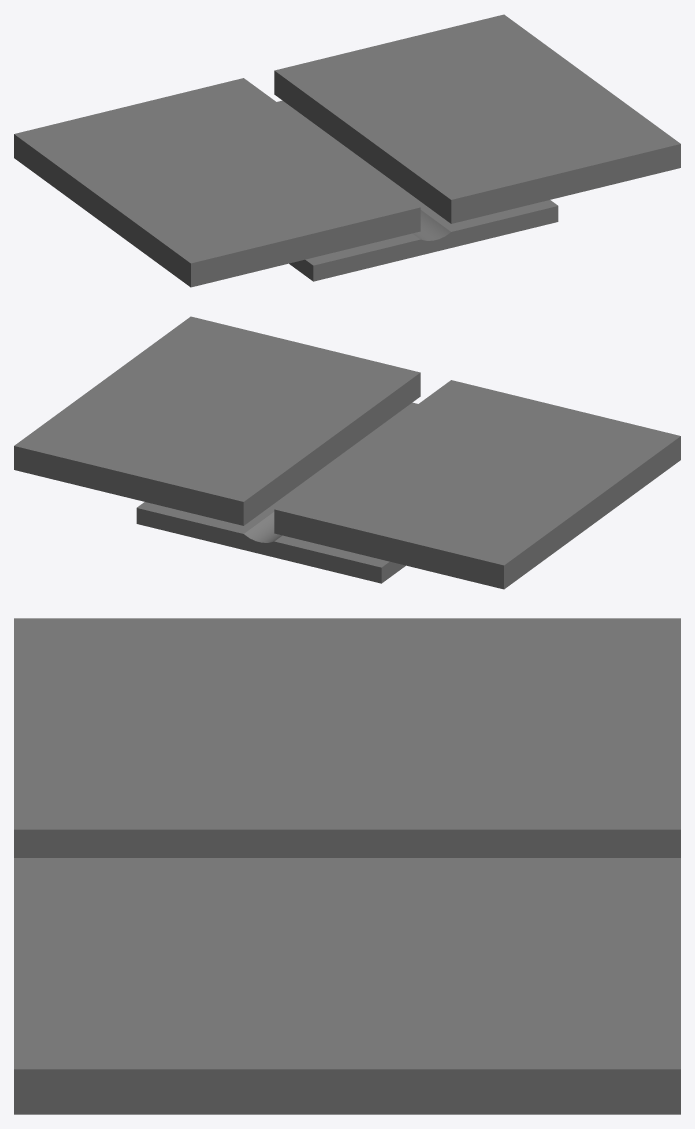
The model's file is С4_Кромки.glb.
3 views of the same model, one above another, from view 1: azimuth 30°, elevation 25°; view 2: azimuth 150°, elevation 25°; view 3: azimuth 270°, elevation 25° (orthographic). The views are drawn at different scales.
Parts seen in each view (by area): view 1: node_id3; view 2: node_id3; view 3: node_id3.
Boxes of the visible parts, x1,y1,x2,y2 form: node_id3: (14, 14, 680, 287); node_id3: (14, 316, 680, 589); node_id3: (14, 618, 680, 1114).
Bounding box in the file's own units: 0.512 × 0.048 × 0.32.
1 material, 1 textured.
